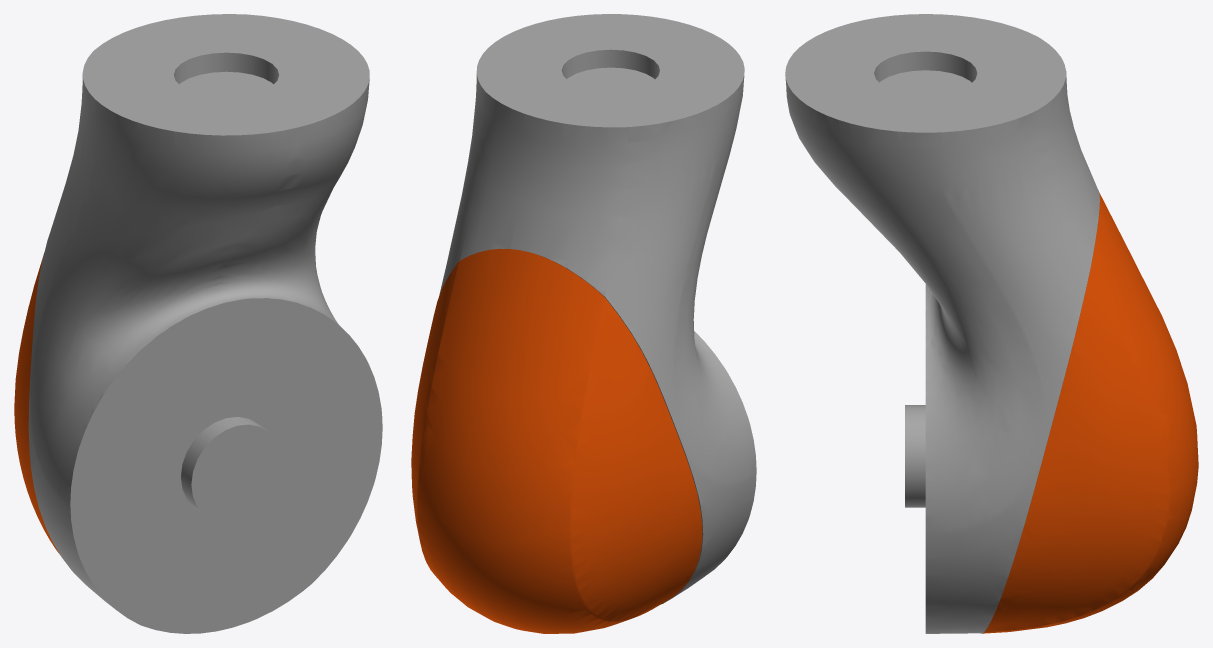
3 views of the same model, side by side, from view 1: azimuth 30°, elevation 25°; view 2: azimuth 150°, elevation 25°; view 3: azimuth 270°, elevation 25° (orthographic). The views are drawn at different scales.
Parts seen in each view (by area): view 1: ShapeIndexedFaceSet; view 2: ShapeIndexedFaceSet; view 3: ShapeIndexedFaceSet.
Part boxes in pixels (x1,y1,x2,y2): ShapeIndexedFaceSet: [14, 14, 382, 633]; ShapeIndexedFaceSet: [411, 14, 756, 633]; ShapeIndexedFaceSet: [785, 14, 1198, 633].
Bounding box in the file's own units: 0.171 × 0.2899 × 0.2001.
